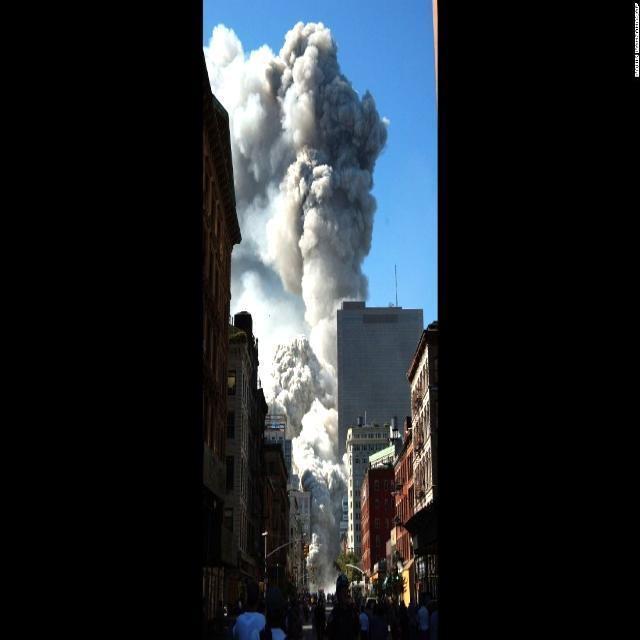Smoke: (208, 16, 394, 359), (261, 327, 348, 492)
